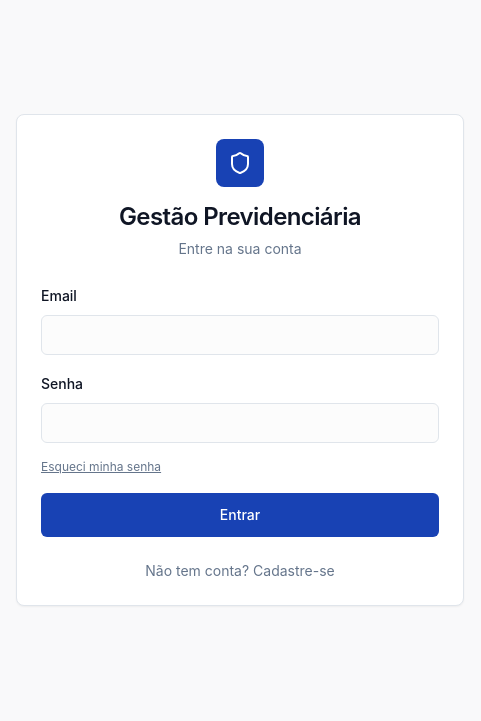
Scenario: AuthPage › should switch to signup form
Click the button "Não tem conta? Cadastre-se": (240, 571) top-left (145, 561), bottom-right (335, 581)
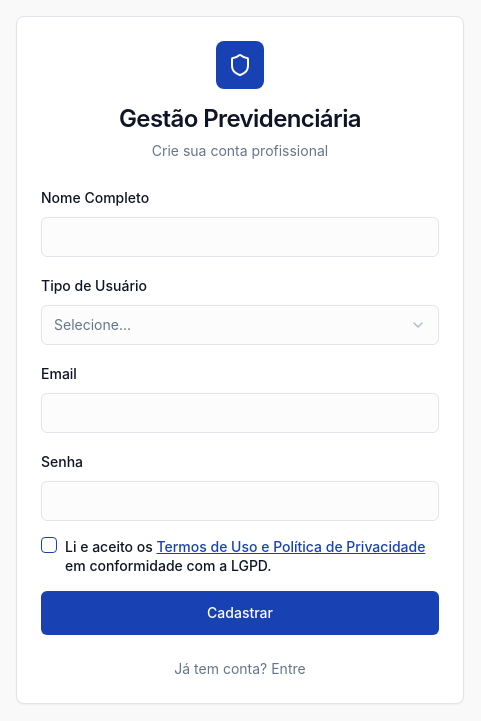
Check: the text "Crie sua conta profissional" is shown, box top-left (152, 142), bottom-right (328, 159)
Check: the field labelled "Nome Completo" is shown, box top-left (41, 217), bottom-right (439, 257)
Check: the button "Cadastrar" is shown, box top-left (41, 591), bottom-right (439, 635)
